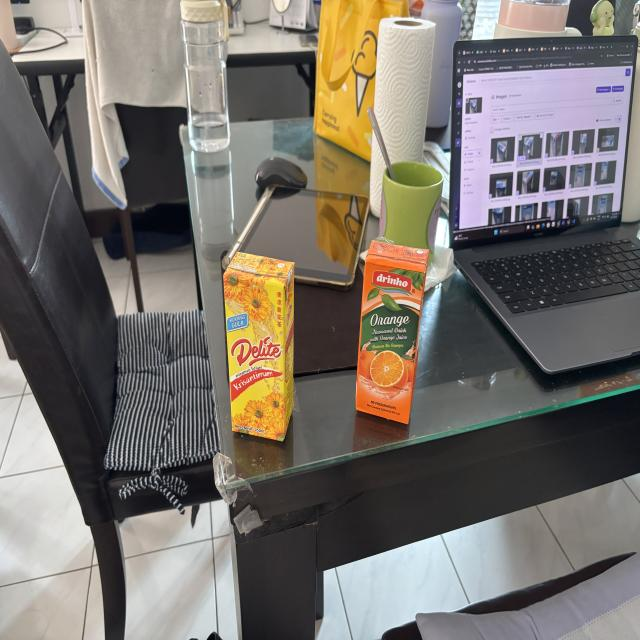drink_carton: (347, 233, 436, 438), (222, 247, 299, 448)
